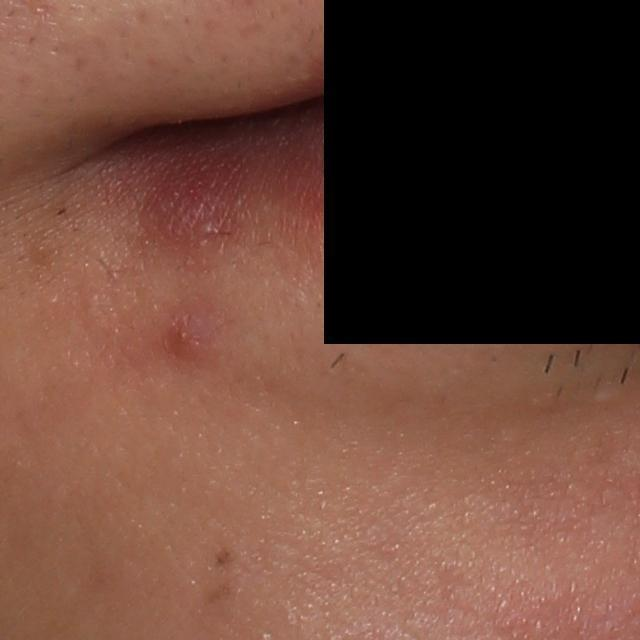hypertrophic_scar: (587, 387, 629, 410)
papule: (138, 191, 229, 252), (165, 315, 207, 358)
